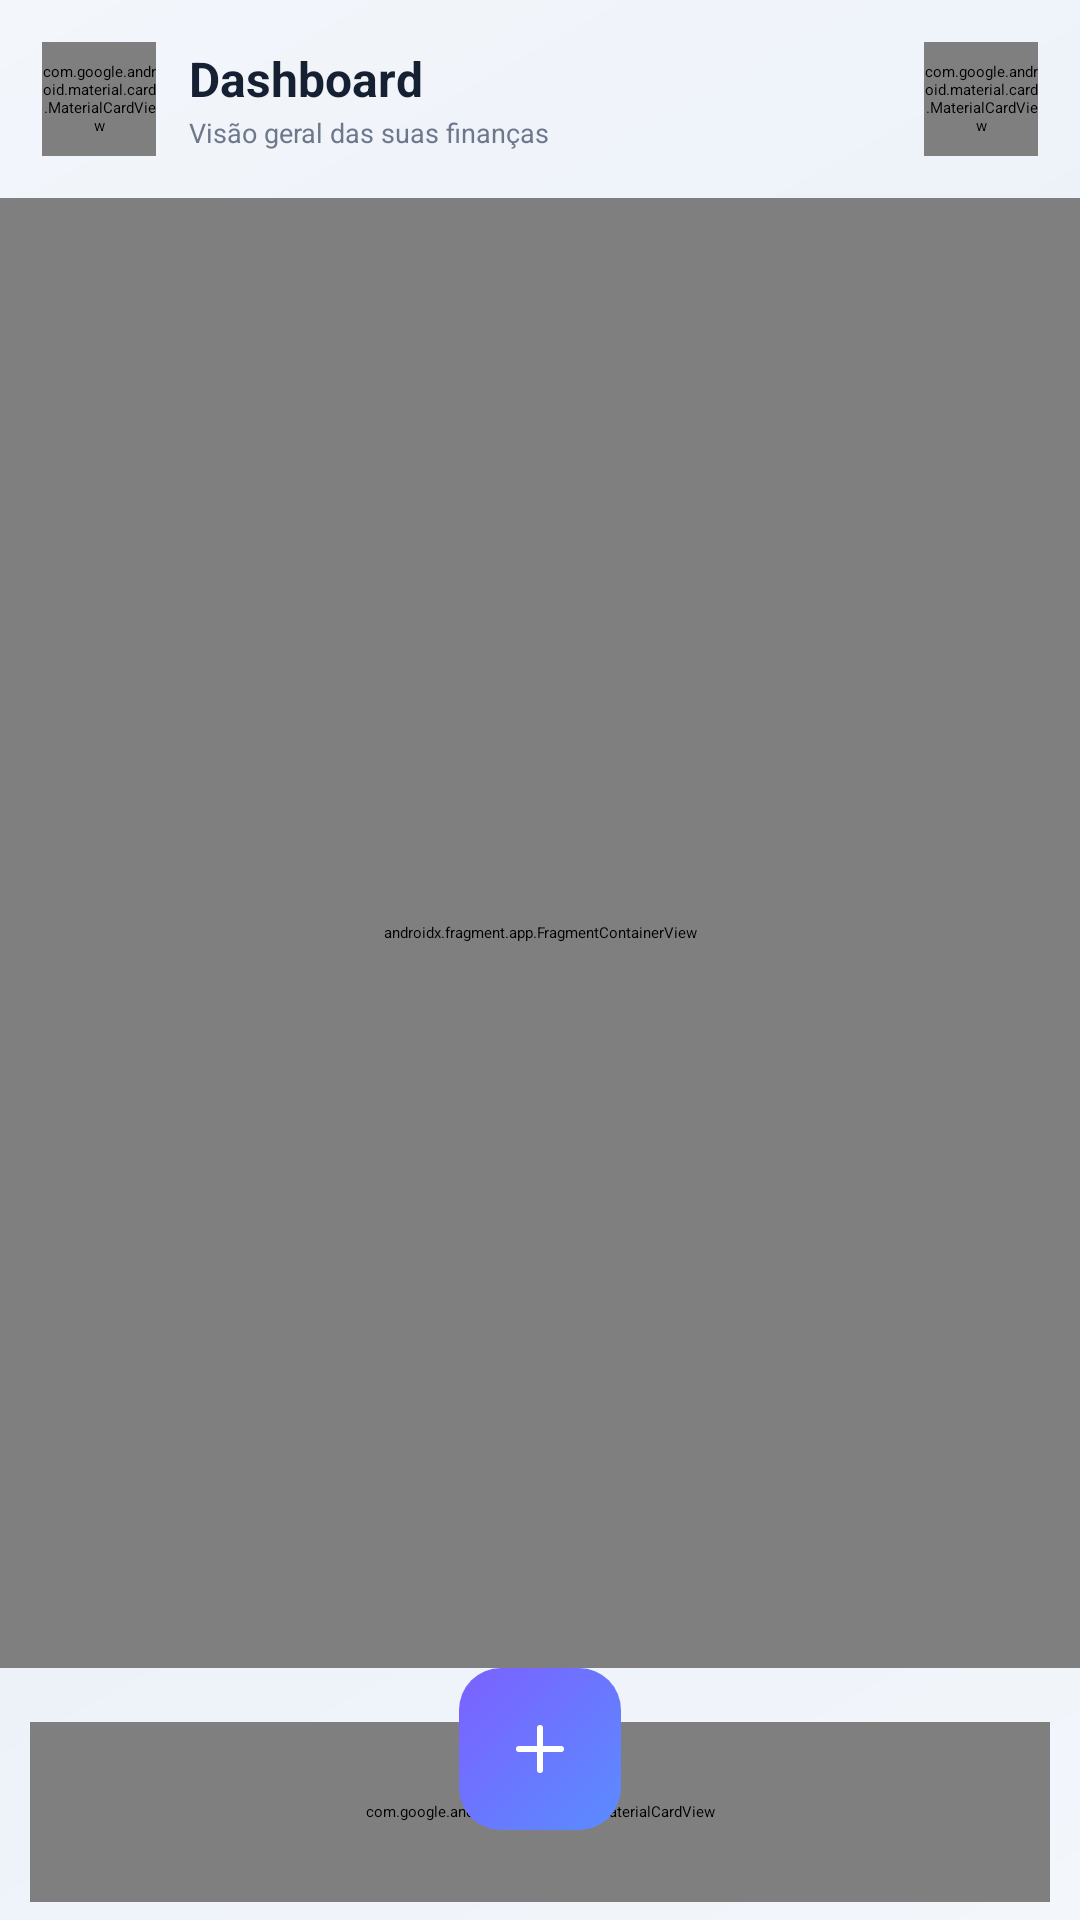

Icons on this 1080x1920 Android screen, each with the point to tap as [x,y]:
Novo lançamento: [540,1749]
